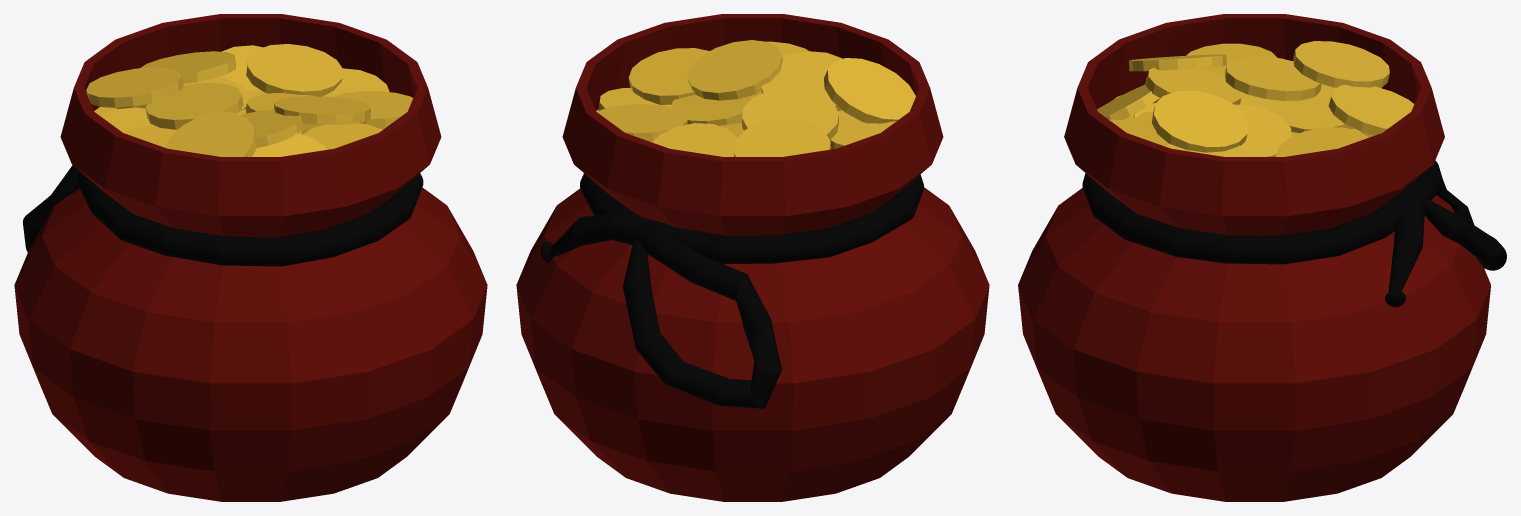
File: CoinBag.fbx
The picture shows the model from 3 angles, left to right: view 1: azimuth 30°, elevation 25°; view 2: azimuth 150°, elevation 25°; view 3: azimuth 270°, elevation 25°; orthographic projection.
Parts seen in each view (by area): view 1: Cylinder; view 2: Cylinder; view 3: Cylinder.
Boxes of the visible parts, box(x1,y1,x2,y2) form: Cylinder: box(14, 14, 487, 501); Cylinder: box(516, 14, 989, 501); Cylinder: box(1018, 14, 1506, 501).
Bounding box in the file's own units: 245 × 205 × 257.
Materials: 1 (1 with a texture image).
